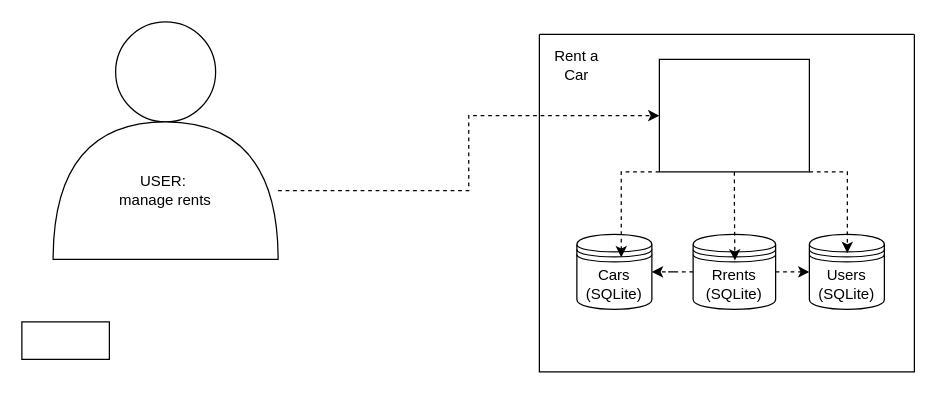
Some shapes in this 936 by 394 pixel diagram are drawn without their labels. Here are the shapes that lost their labels. From the top down, the box of each, then its label:
(658, 58, 809, 172): CRUD Rents (Software system)
(21, 321, 109, 359): L2
